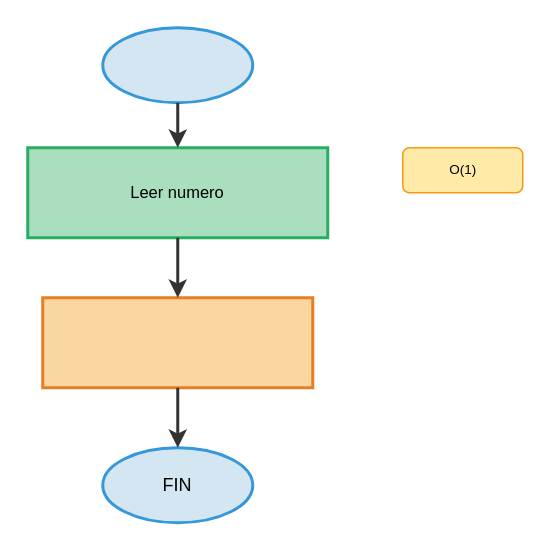
Some shapes in this 549 by 549 pixel diagram are drawn without their labels. Each missing label, with the centre of its shape:
Imprimir: the point at 177,342
INICIO: the point at 177,65
